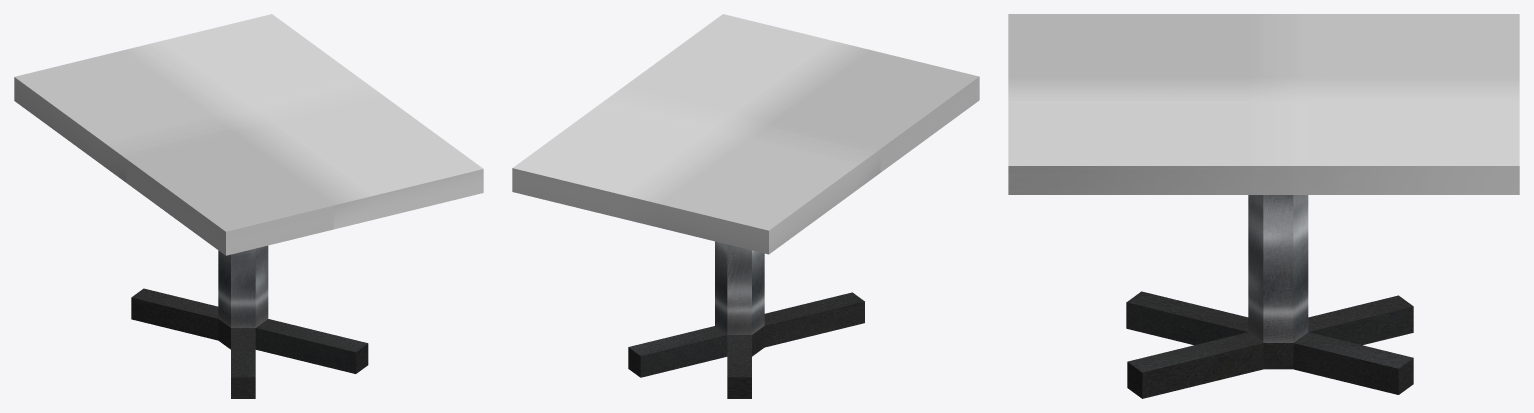
The model's file is 50's Dinner Table.fbx.
3 views of the same model, side by side, from view 1: azimuth 30°, elevation 25°; view 2: azimuth 150°, elevation 25°; view 3: azimuth 270°, elevation 25° (orthographic). The views are drawn at different scales.
Parts seen in each view (by area): view 1: Head, Feet, Leg; view 2: Head, Feet, Leg; view 3: Head, Feet, Leg.
Part boxes in pixels (bbox=[...]): Head: bbox=[14, 14, 483, 255]; Feet: bbox=[131, 288, 368, 398]; Leg: bbox=[218, 245, 268, 327]; Head: bbox=[512, 14, 979, 254]; Feet: bbox=[628, 292, 864, 398]; Leg: bbox=[715, 241, 764, 334]; Head: bbox=[1008, 14, 1519, 194]; Feet: bbox=[1126, 291, 1413, 398]; Leg: bbox=[1248, 195, 1308, 342].
Size of the model in its own units: 1196 by 985 by 1701.
